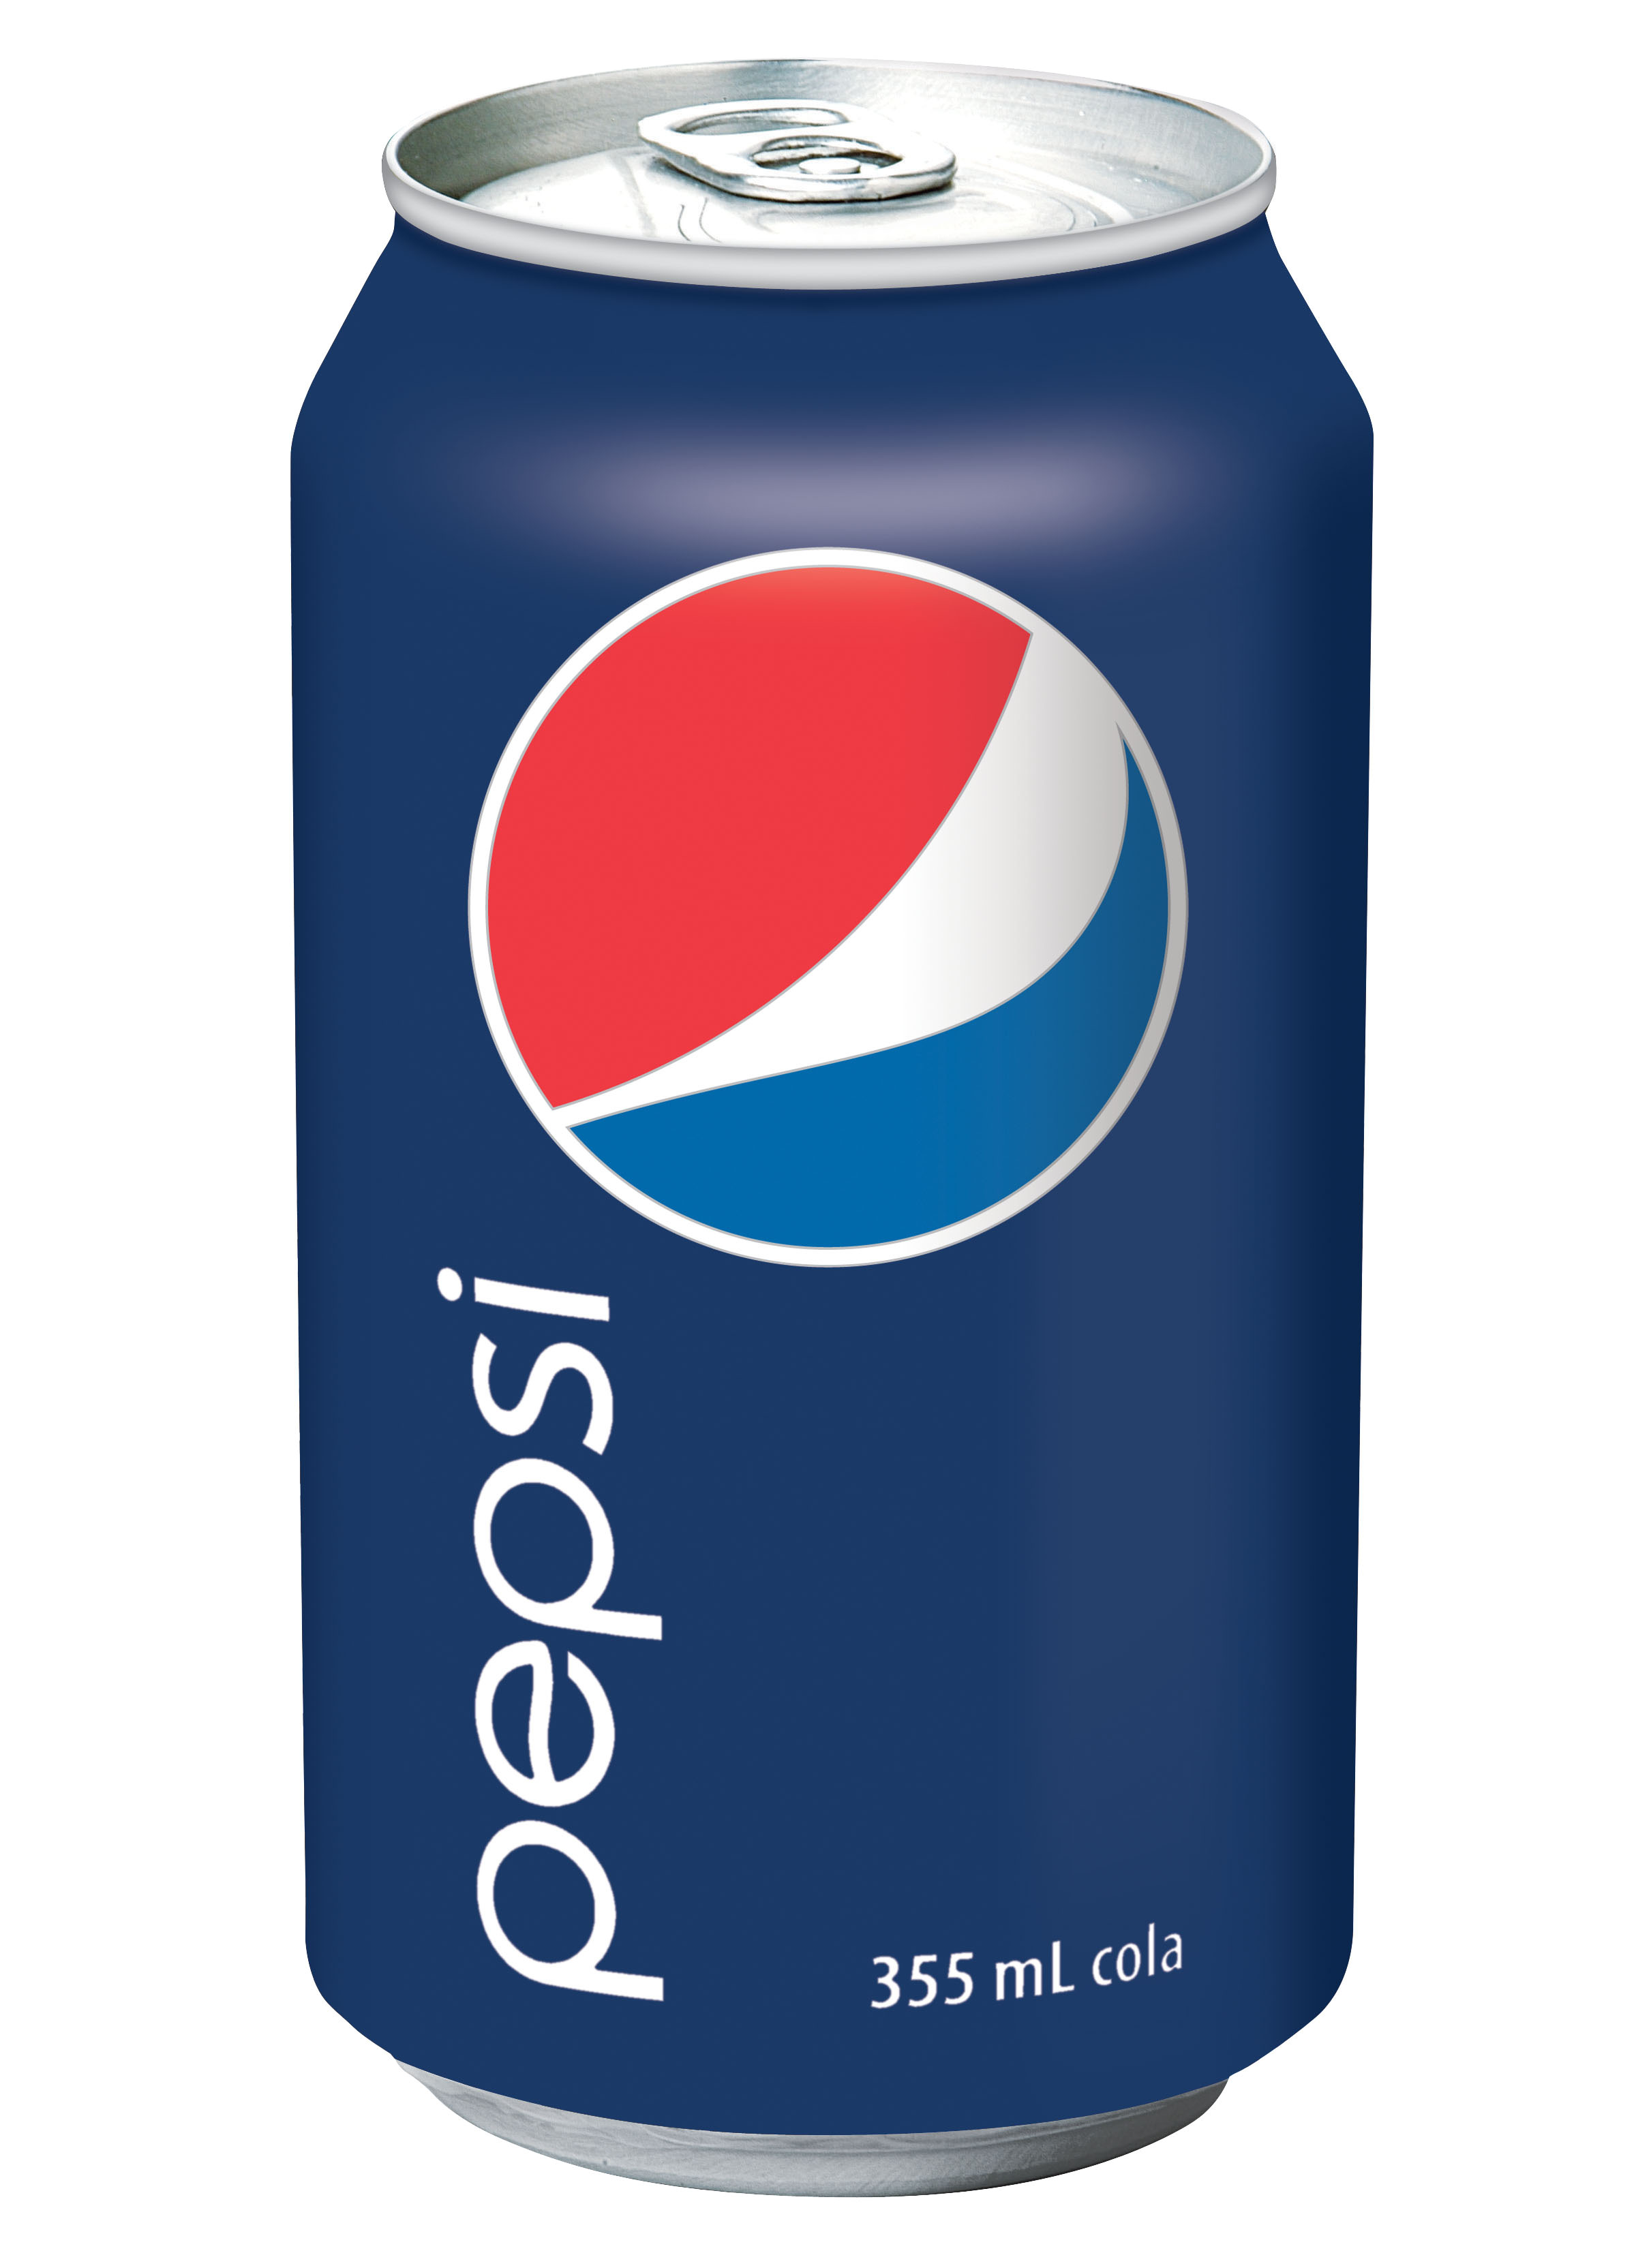pepsi: (289, 49, 1363, 2201)
